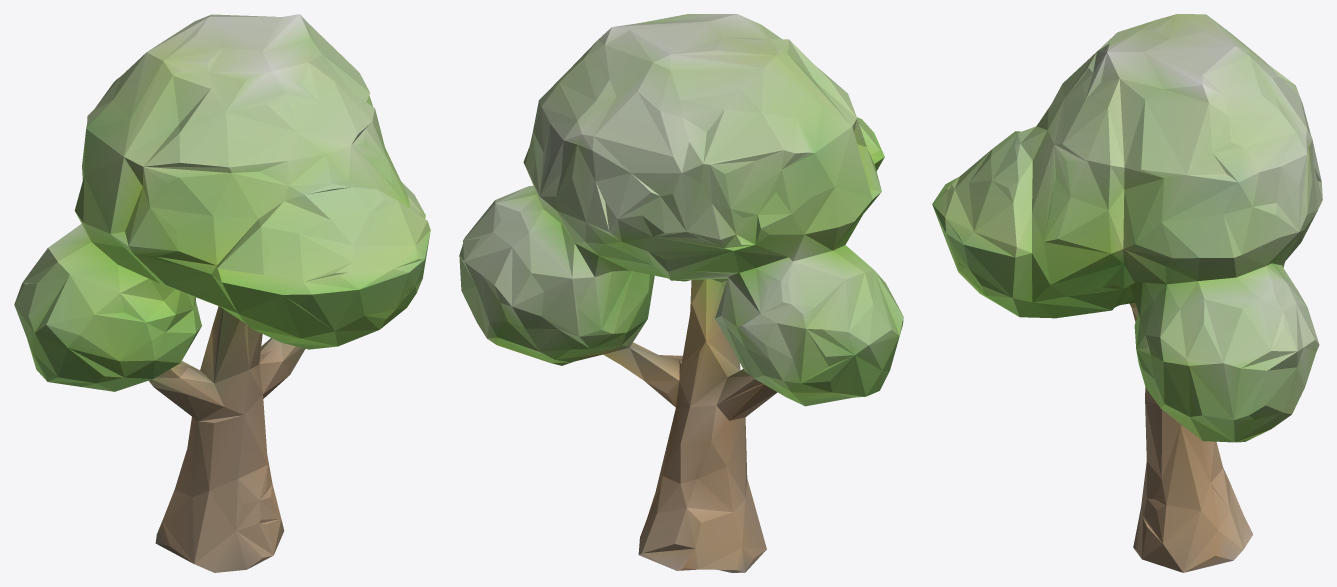
File: tree.glb
3 renders of one model, left to right at view 1: azimuth 30°, elevation 25°; view 2: azimuth 150°, elevation 25°; view 3: azimuth 270°, elevation 25°, orthographic. The views are drawn at different scales.
Parts seen in each view (by area): view 1: world; view 2: world; view 3: world.
Part boxes in pixels (left/top/right/bottom): world: left=14, top=14, right=430, bottom=572; world: left=459, top=14, right=903, bottom=572; world: left=932, top=14, right=1322, bottom=572.
Size of the model in its own units: 4.5 by 5.5 by 3.83.
